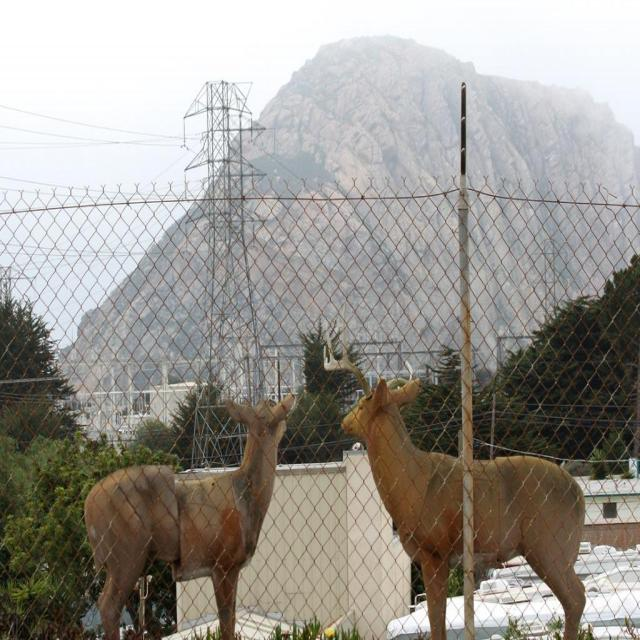Deer: (323, 304, 586, 640), (82, 395, 292, 640)
